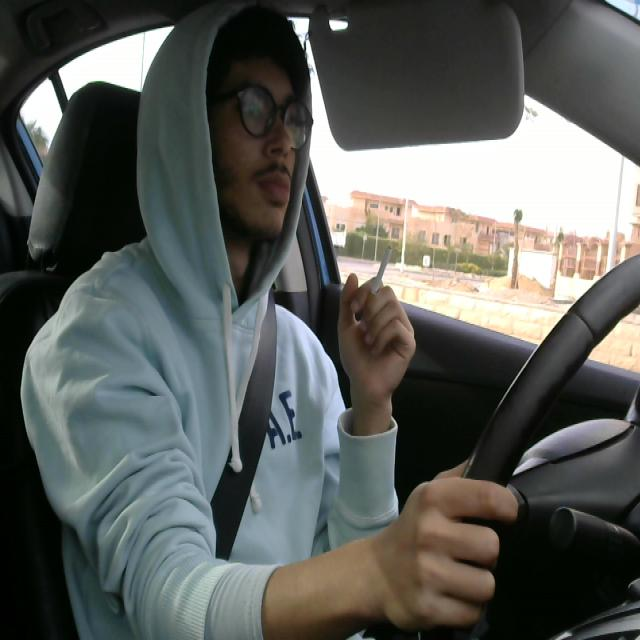smoking: (367, 235, 396, 320)
